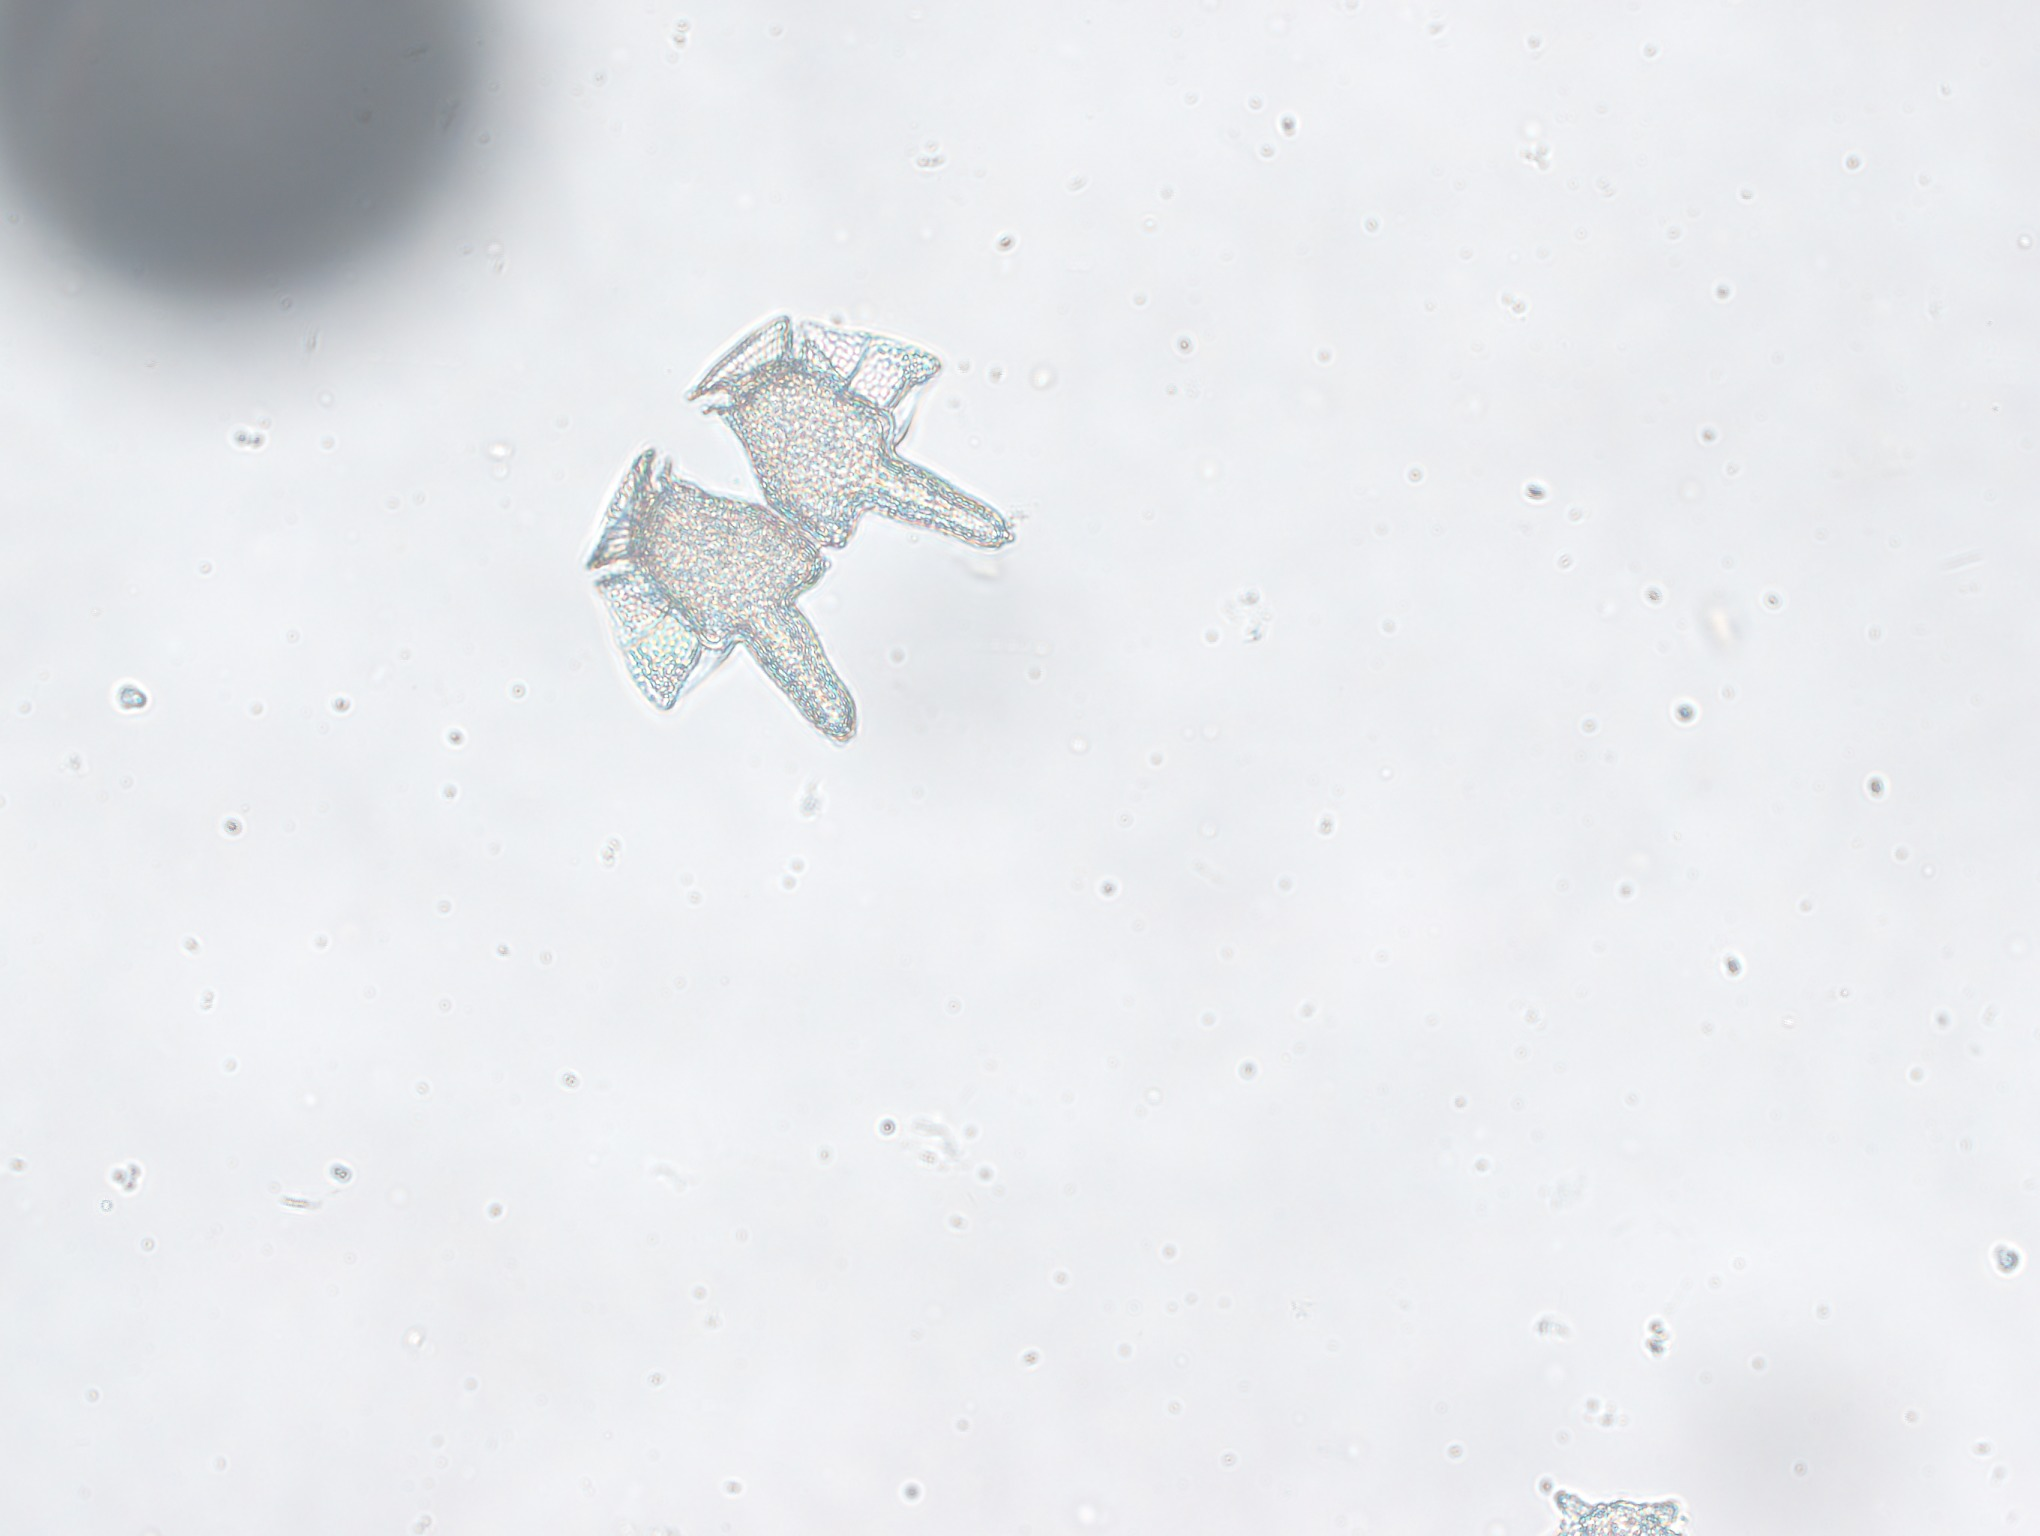dinophysis caudata: (566, 295, 1024, 758)
